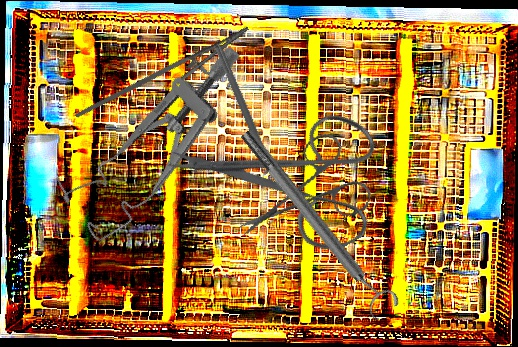Fixation Ring: (232, 120, 403, 324), (202, 41, 286, 196)
Iris Scissors: (161, 62, 413, 304), (238, 118, 383, 264)
Needle Holder: (74, 6, 258, 150)
Speculum: (40, 42, 285, 248)
